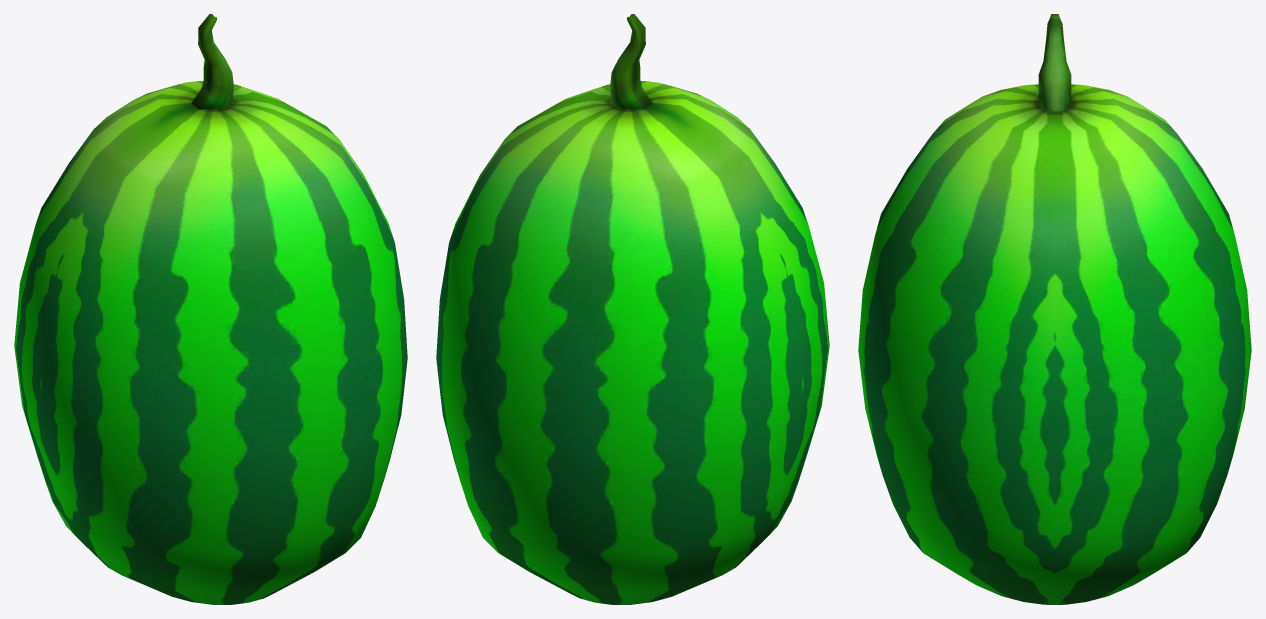
The model's file is Watermelon.fbx.
3 renders of one model, left to right at view 1: azimuth 30°, elevation 25°; view 2: azimuth 150°, elevation 25°; view 3: azimuth 270°, elevation 25°, orthographic.
Visible parts, largest first — view 1: Watermelon; view 2: Watermelon; view 3: Watermelon.
Part boxes in pixels (x1=…): Watermelon: x1=14, y1=14, x2=407, y2=604; Watermelon: x1=436, y1=14, x2=829, y2=604; Watermelon: x1=858, y1=14, x2=1251, y2=604.
Size of the model in its own units: 152 by 244 by 153.
